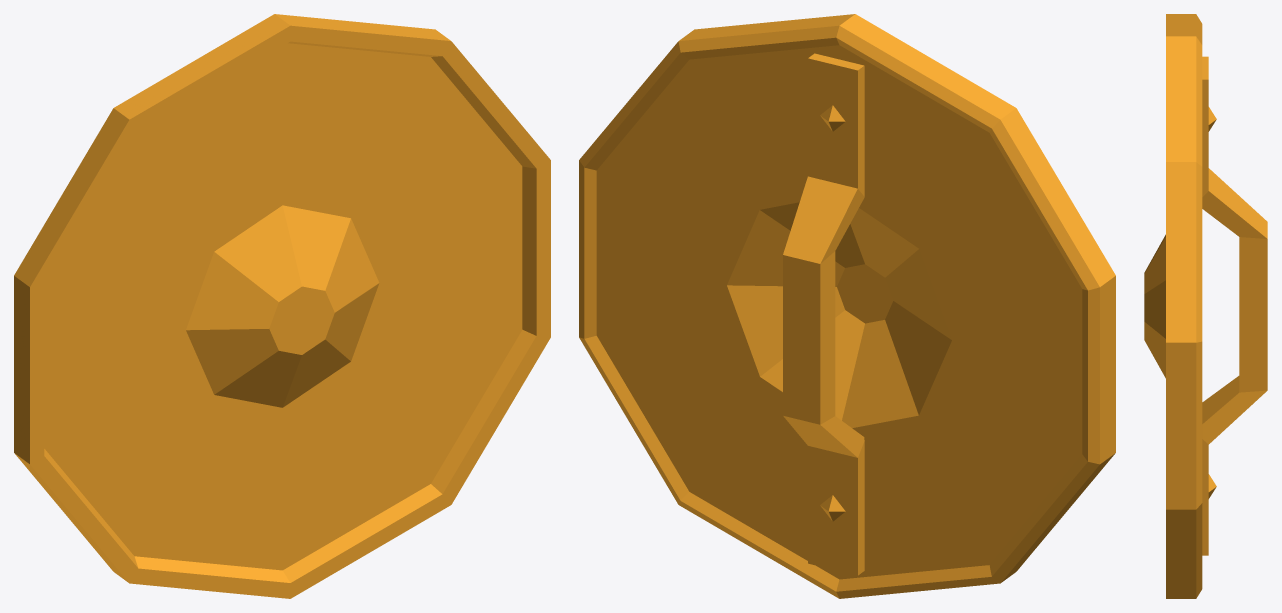
Rendered from SM_Shield_Buckler_B.fbx.
The picture shows the model from 3 angles, left to right: view 1: azimuth 30°, elevation 25°; view 2: azimuth 150°, elevation 25°; view 3: azimuth 270°, elevation 25°; orthographic projection. The views are drawn at different scales.
Visible parts, largest first — view 1: shield-buckler-b; view 2: shield-buckler-b; view 3: shield-buckler-b.
Part boxes in pixels (x1=…): shield-buckler-b: x1=14, y1=14, x2=550, y2=598; shield-buckler-b: x1=579, y1=14, x2=1115, y2=598; shield-buckler-b: x1=1144, y1=14, x2=1267, y2=598.
Bounding box in the file's own units: 0.3234 × 0.34 × 0.0704.
